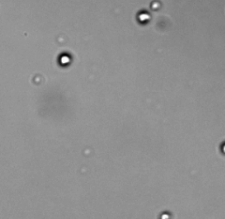Living Cell: (58, 51, 73, 67), (136, 9, 150, 24), (149, 1, 163, 11)
